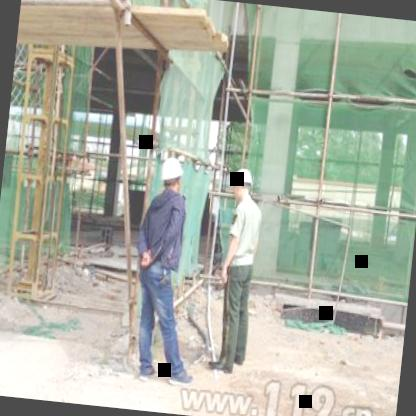helmet: (157, 154, 184, 199), (227, 164, 252, 204)
